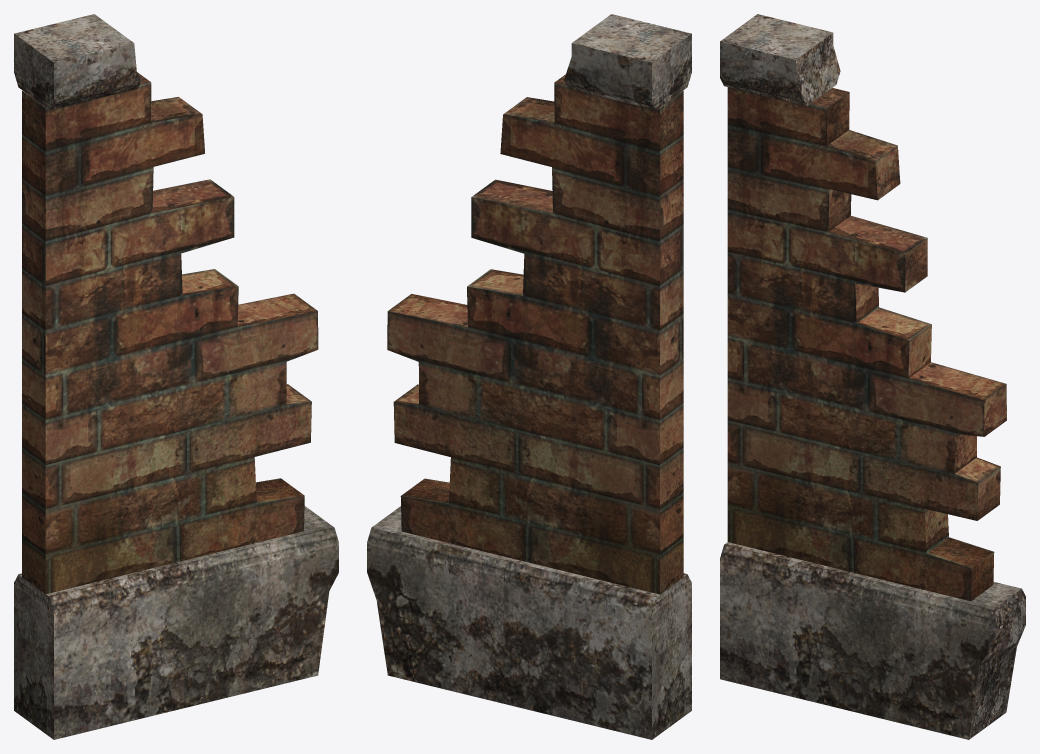
The model's file is Wall3E.fbx.
3 renders of one model, left to right at view 1: azimuth 30°, elevation 25°; view 2: azimuth 150°, elevation 25°; view 3: azimuth 330°, elevation 25°, orthographic. The views are drawn at different scales.
Visible parts, largest first — view 1: polySurface25; view 2: polySurface25; view 3: polySurface25.
Boxes of the visible parts, x1=… form: polySurface25: x1=14, y1=14, x2=338, y2=739; polySurface25: x1=367, y1=14, x2=691, y2=739; polySurface25: x1=720, y1=14, x2=1025, y2=739.
Bounding box in the file's own units: 1.28 × 2.82 × 0.3.
